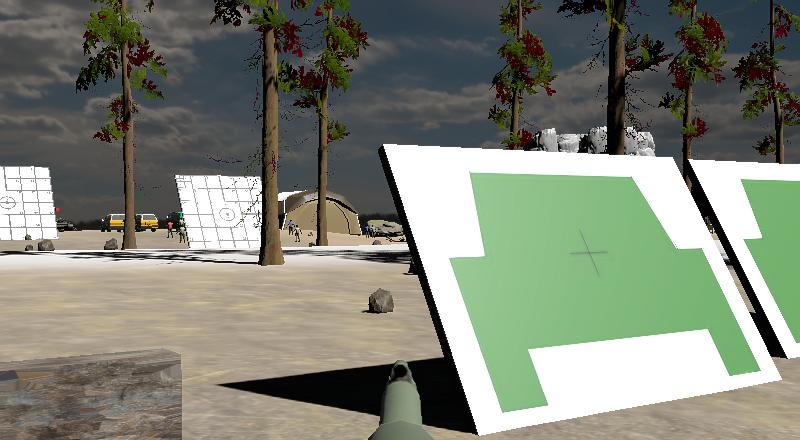Tank: (53, 216, 82, 233)
car: (100, 212, 135, 233), (134, 213, 160, 233)
